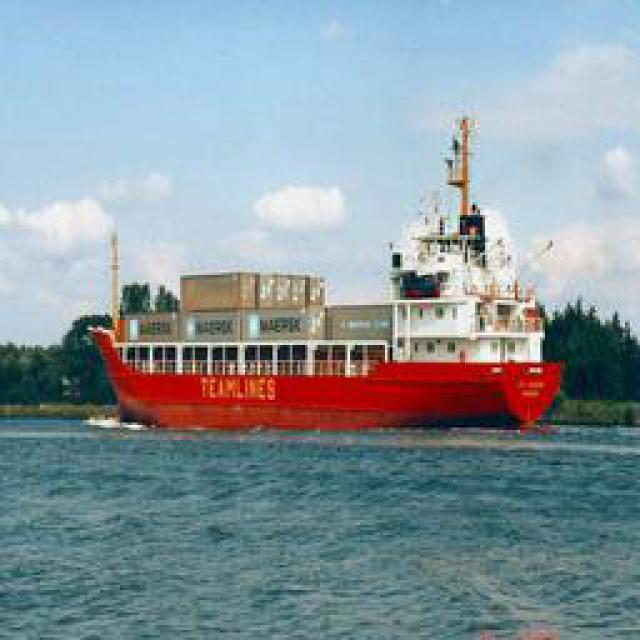Ship: (96, 132, 559, 440)
